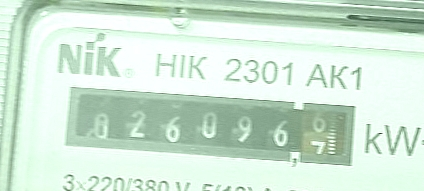0: (197, 105, 219, 142), (89, 106, 111, 139)
2: (125, 104, 148, 141)
6: (162, 109, 183, 145), (270, 113, 290, 147), (308, 106, 328, 134)
7: (307, 135, 326, 157)
9: (233, 111, 254, 144)
screen: (53, 75, 363, 176)
